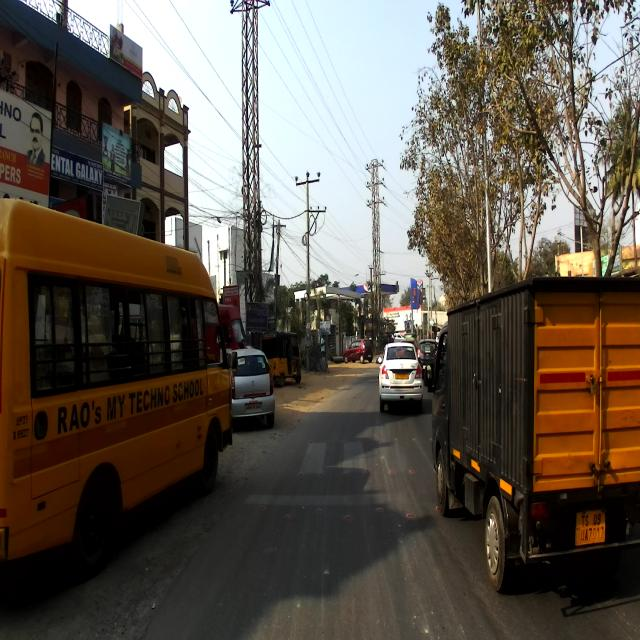bus ahead at: (0, 190, 236, 597)
car ahead at: (378, 336, 428, 418)
truck ahead at: (433, 268, 640, 588)
